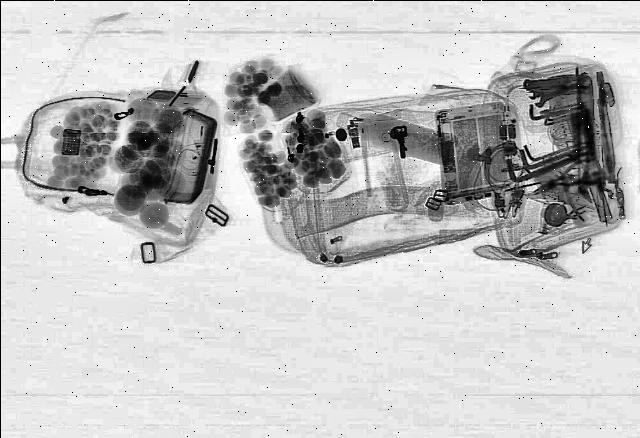Pliers: (522, 158, 602, 202)
Wrench: (520, 71, 596, 109)
